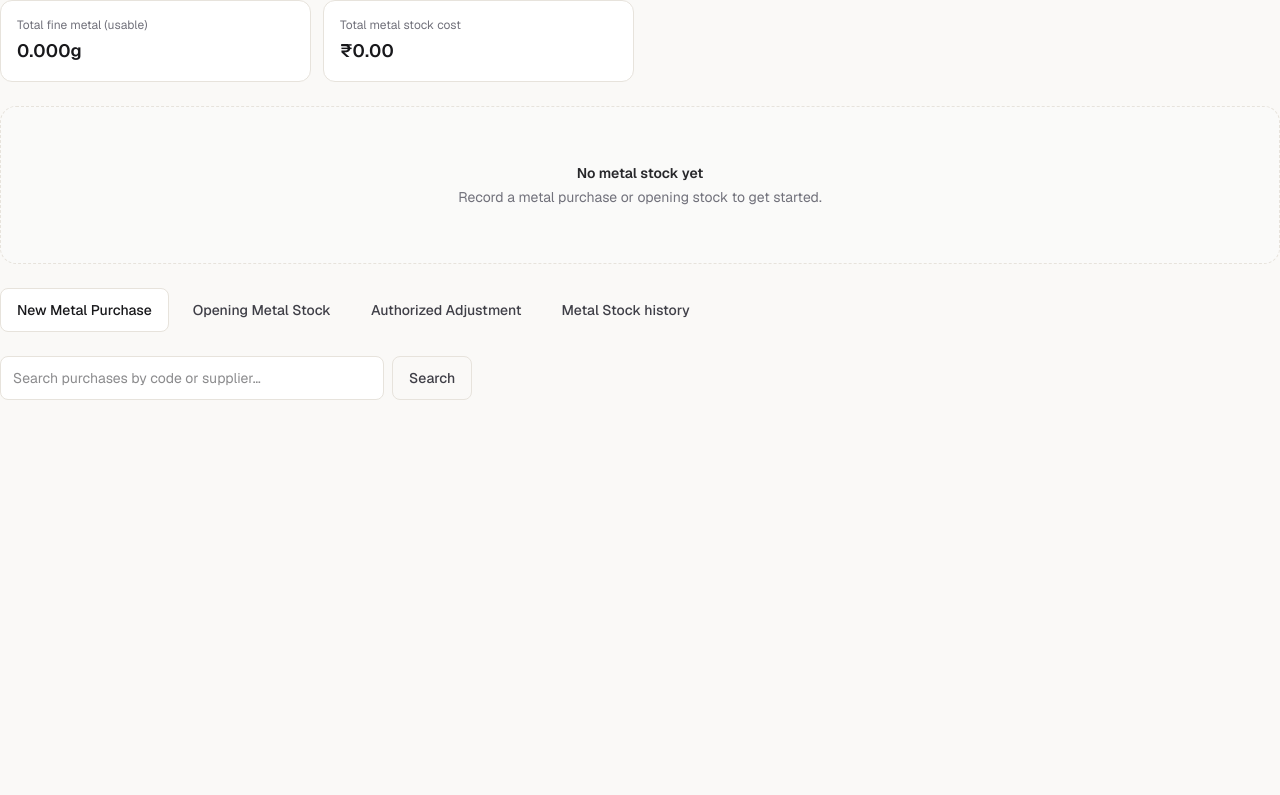
Opening Metal Stock form › a FINE-gram rate is multiplied by the fine weight, not the gross weight
Click the button "Opening Metal Stock" at (262, 310), box [177,288,347,332]
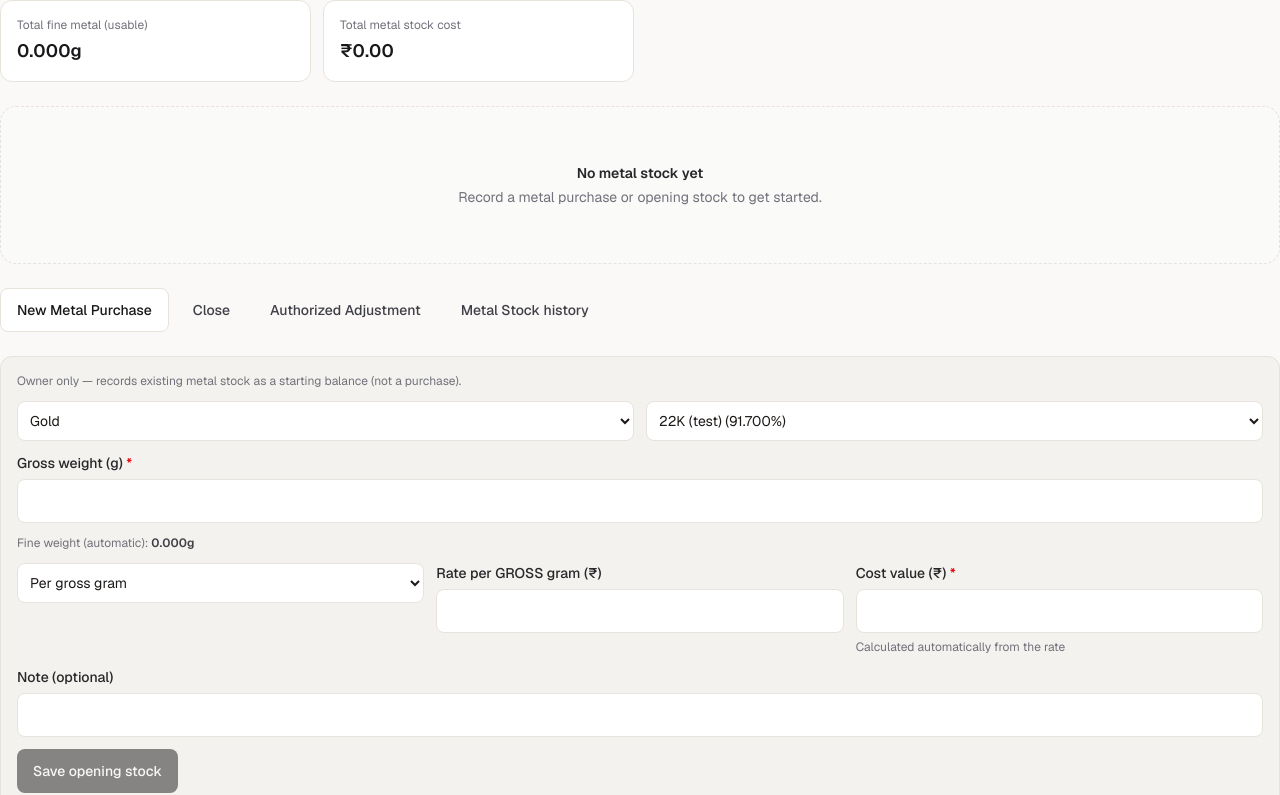
Select "Per fine gram" in the dropdown named "Rate basis" at (221, 583), box [17,563,424,603]
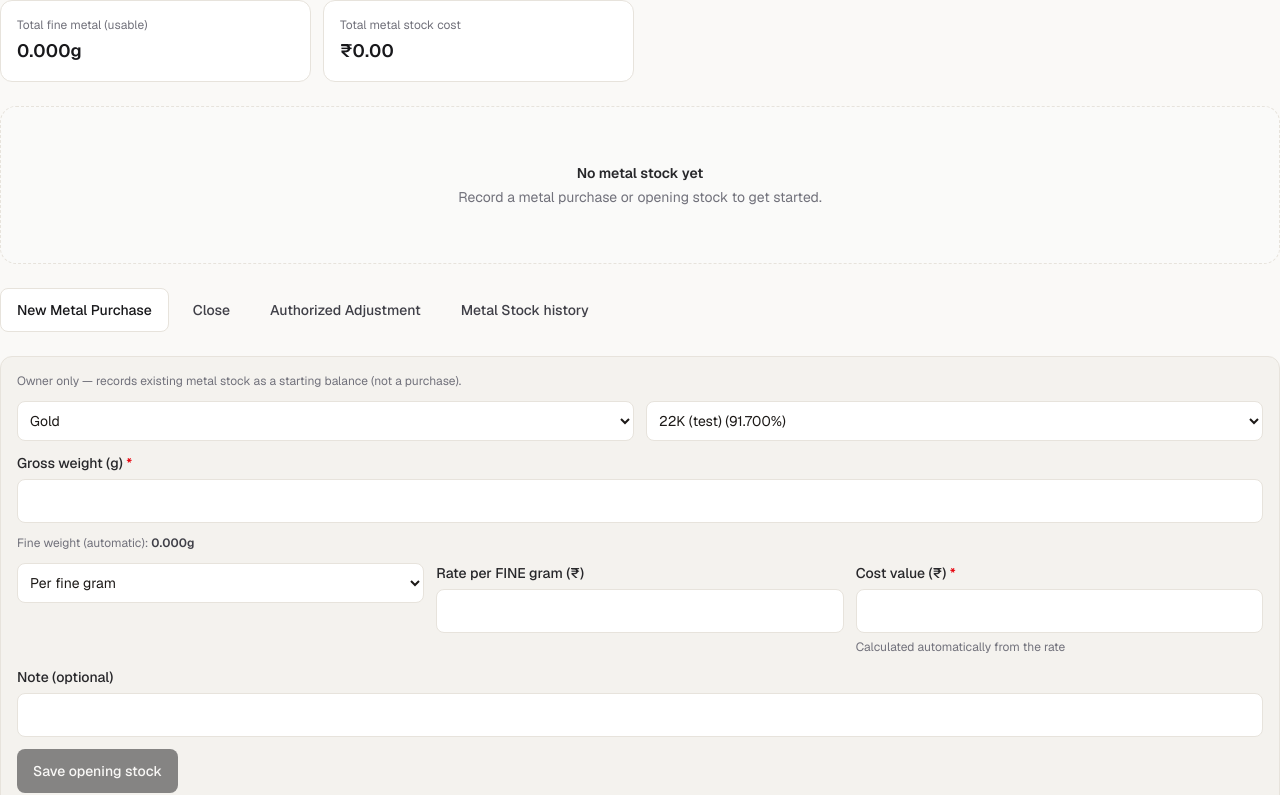
Type "100" into the number field labelled "Gross weight (g) *" at (640, 501), box [17,479,1263,523]
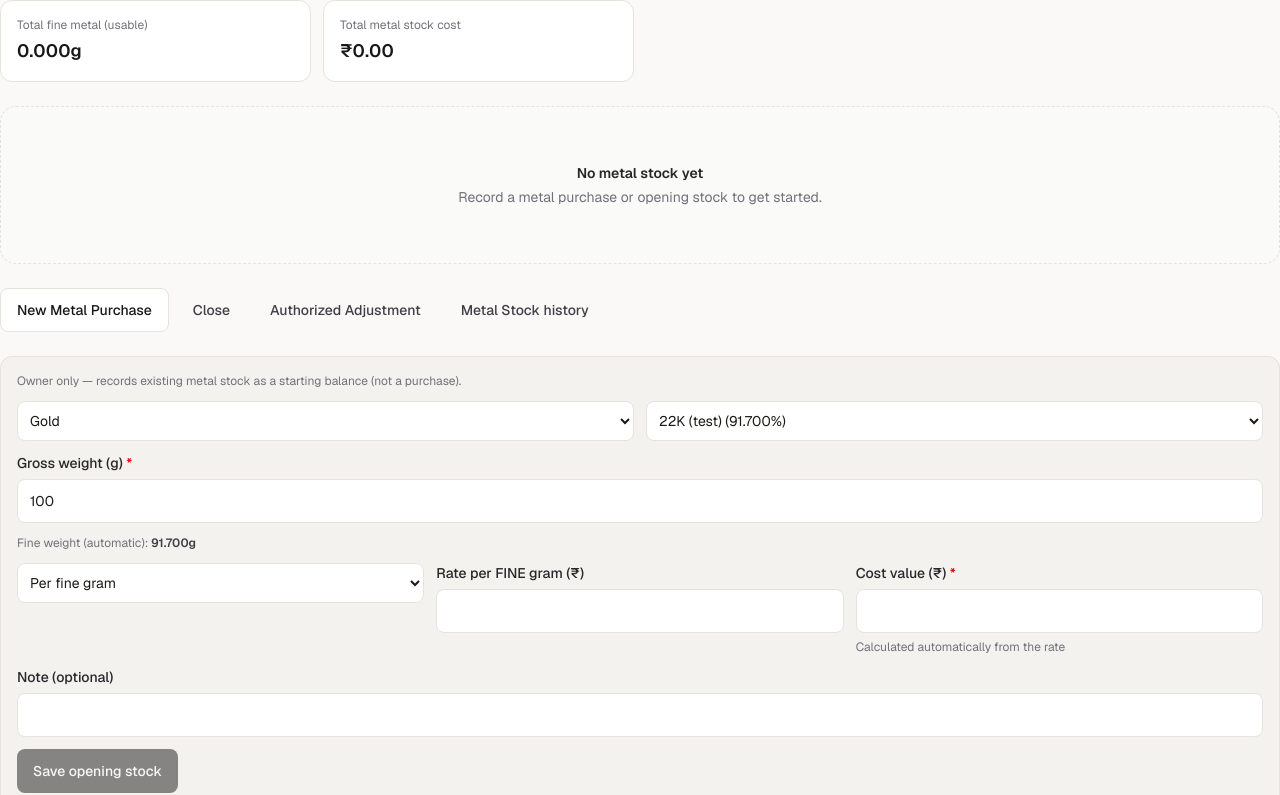
Type "6543.21" into the number field labelled "Rate per FINE gram (₹)" at (640, 611), box [436,589,844,633]
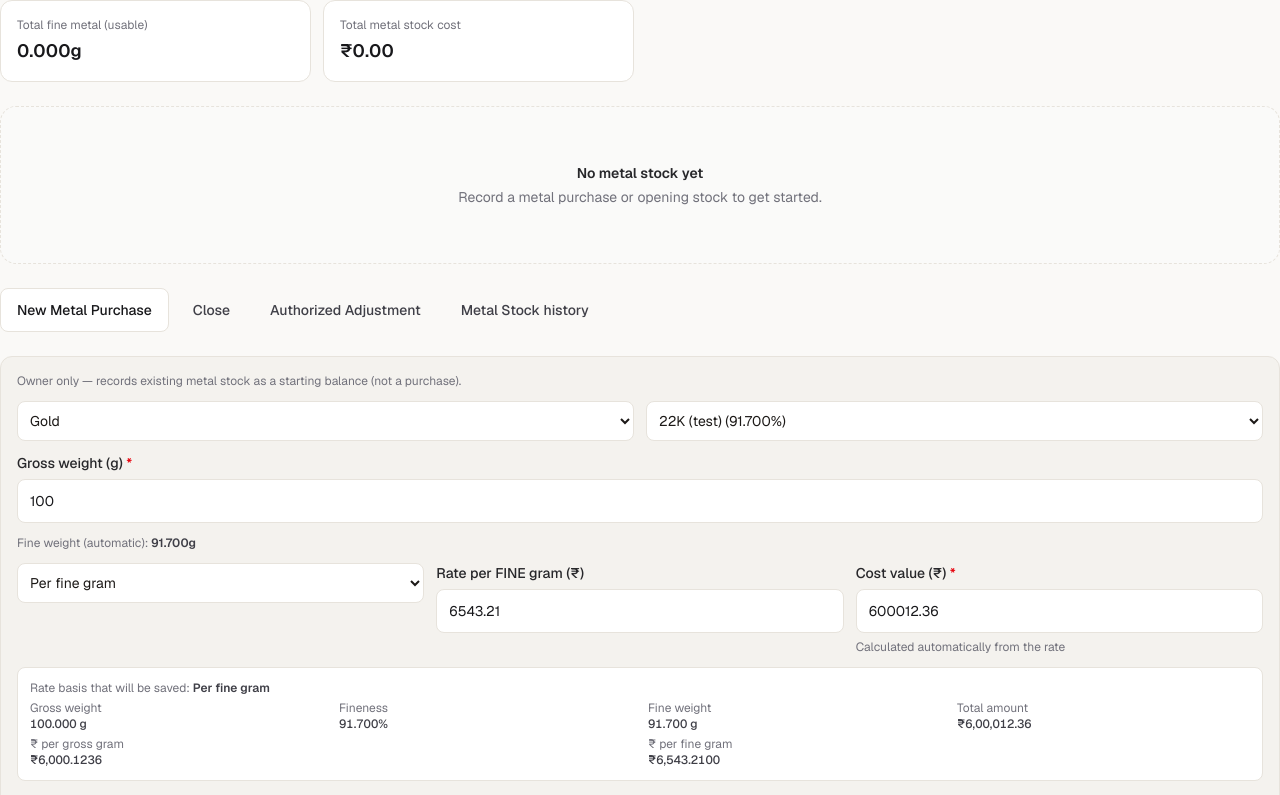
Expected: the number field labelled "Cost value (₹) *" holds "600012.36", [856,589,1263,633]
Expected: the text with test id "effective-rates-basis" reads "Per fine gram", [193,680,270,696]
